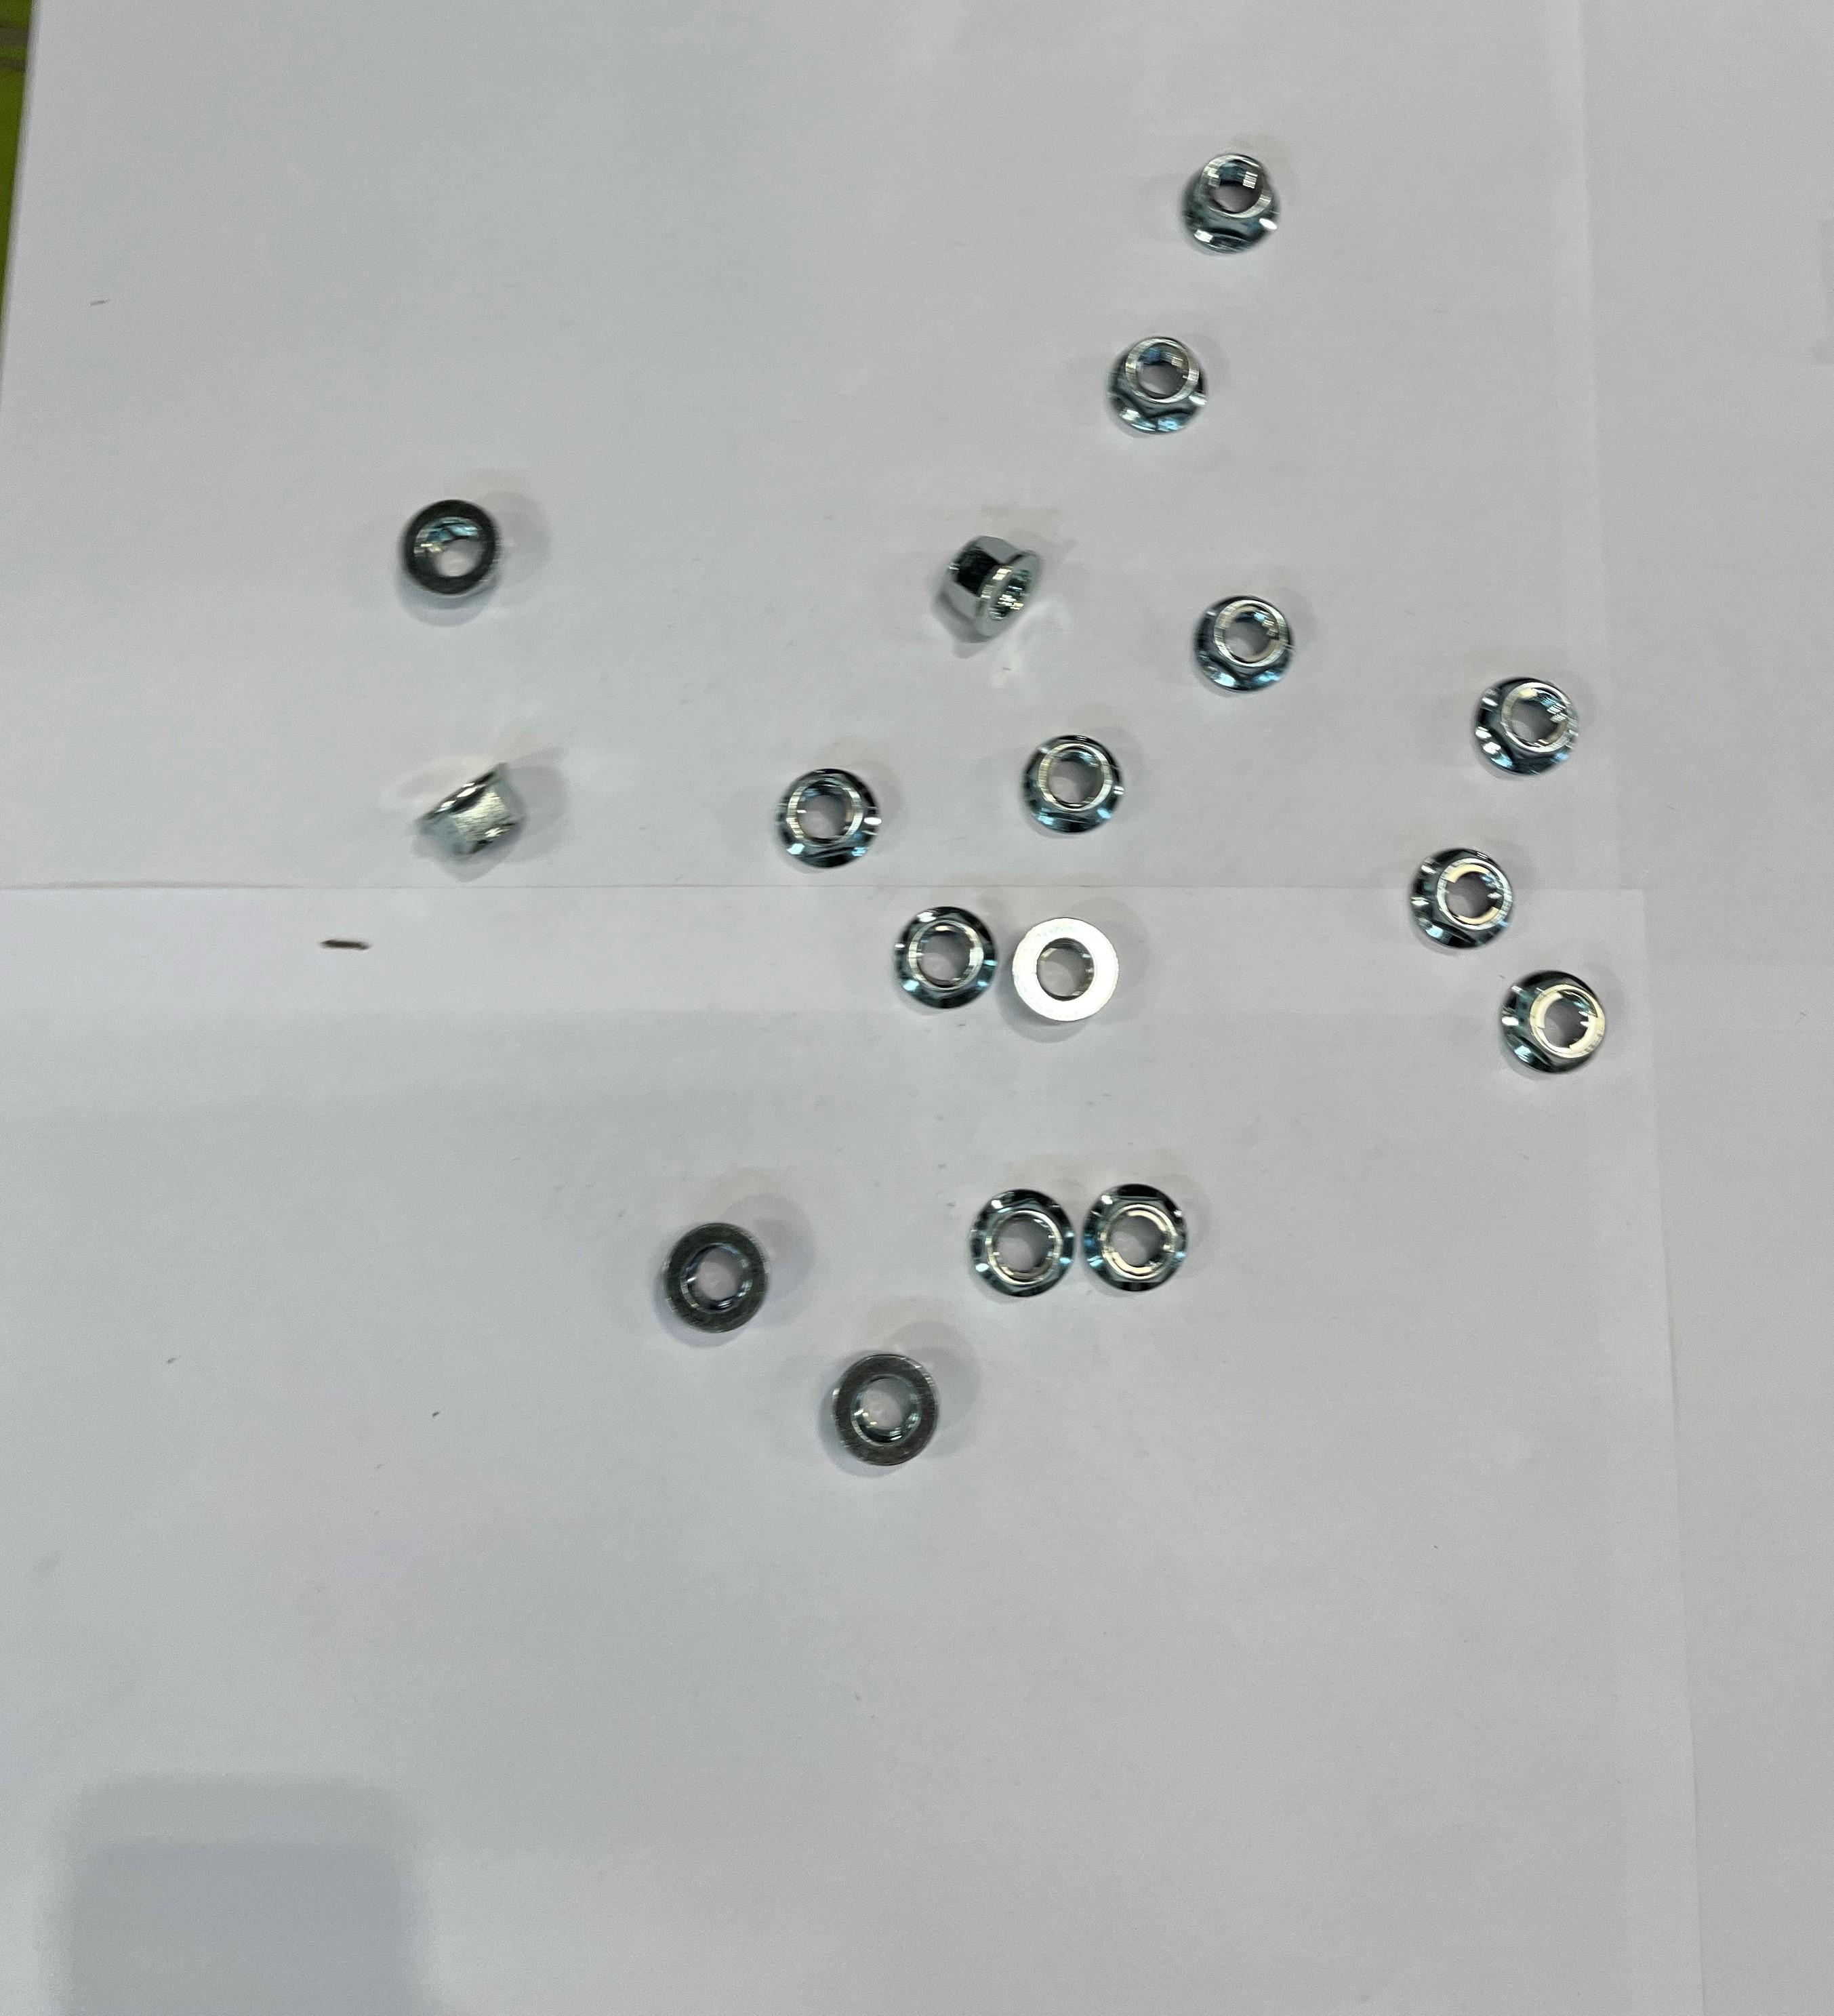Type B: (833, 1354, 942, 1465), (413, 762, 529, 864), (1014, 915, 1121, 1024), (664, 1222, 769, 1333), (773, 764, 878, 873), (1082, 1185, 1188, 1292), (392, 502, 502, 604), (1411, 846, 1514, 954), (971, 1189, 1075, 1296), (894, 908, 998, 1012), (1502, 971, 1609, 1071), (1474, 676, 1579, 776), (1024, 732, 1126, 834), (1110, 339, 1209, 437), (945, 537, 1040, 639), (1184, 155, 1281, 253), (1196, 599, 1295, 692)
